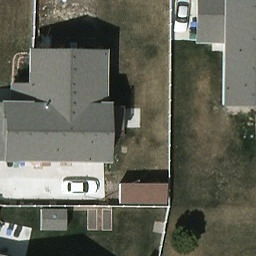car: (63, 180, 102, 195), (174, 0, 189, 35)
